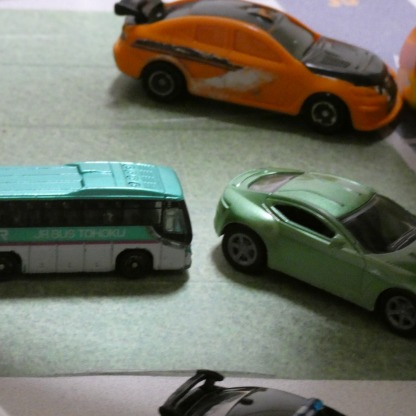car: (112, 0, 402, 137), (218, 163, 416, 339), (0, 159, 192, 282), (151, 363, 371, 416)
